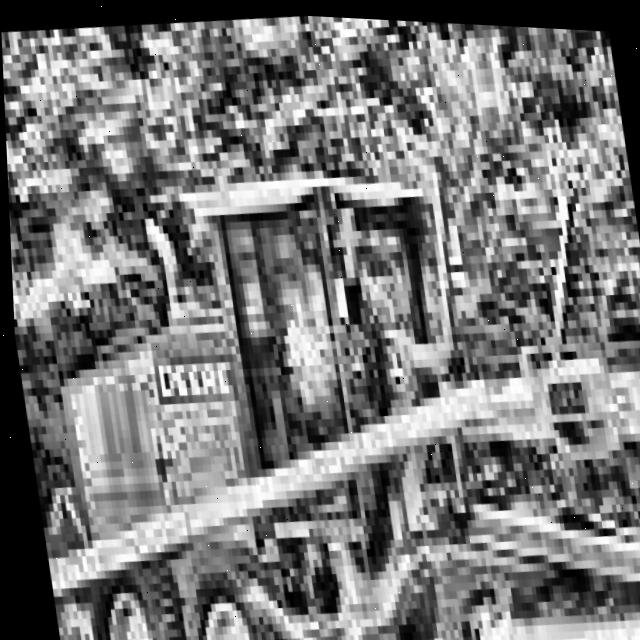buldozerpayloadergrader: (3, 90, 640, 640)
